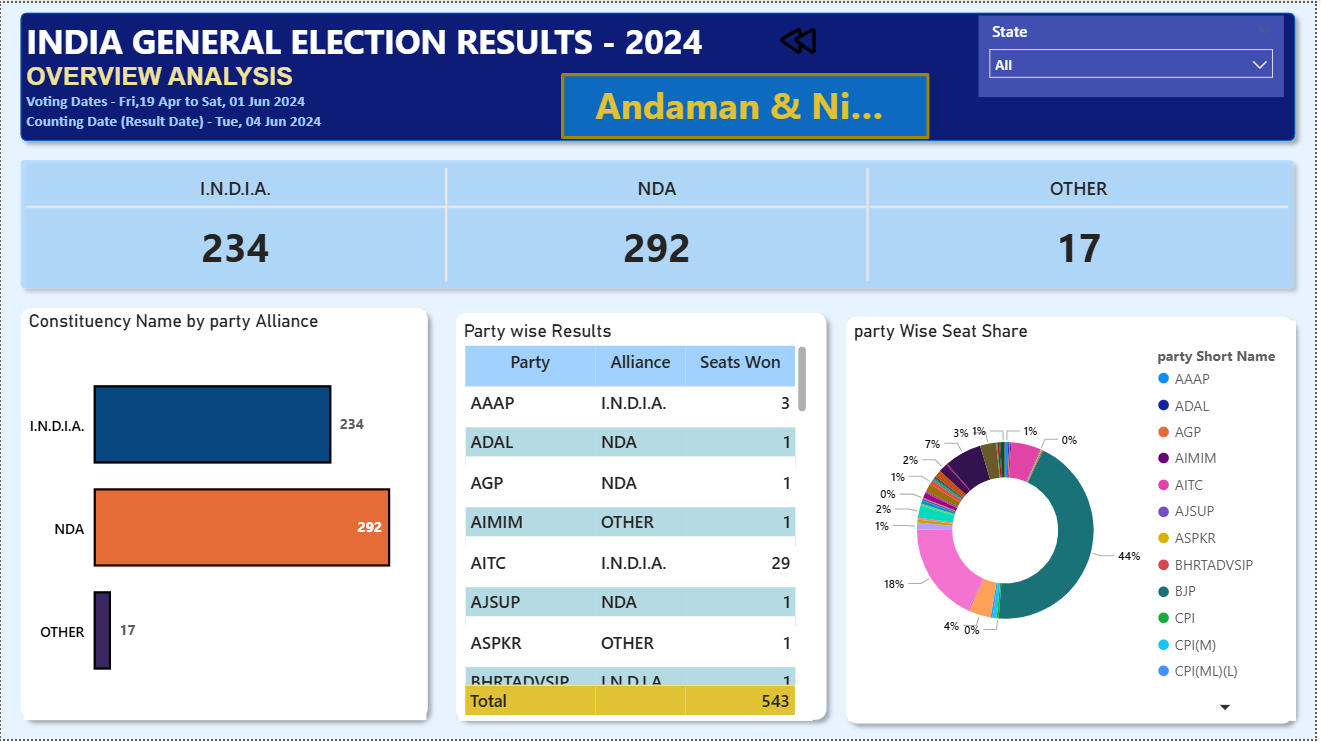

This screenshot's page, from the dashboard's own definition file:
{"tool":"powerbi","page":{"name":"State Demographics Analysis","canvas":[1250,700],"ordinal":2},"visuals":[{"type":"shape","box":[9.5,0,1230.5,140.3],"z":0},{"type":"textbox","box":[19,9.5,683.6,120.1],"z":1000},{"type":"shape","box":[9.5,140.3,1229,140],"z":2000},{"type":"cardVisual","fields":{"Data":["CountNonNull(constituencywise_results.Constituency Name)"],"Rows":["constituencywise_results.party Alliance"]},"box":[19,132,1212.6,158.1],"z":7000},{"type":"slicer","fields":{"Values":["states.State"]},"box":[929.7,11.9,290.1,77.3],"z":8000},{"type":"shape","box":[9.5,280.6,405.4,410.2],"z":9000},{"type":"barChart","title":"Constituency Name by party Alliance","fields":{"Category":["constituencywise_results.party Alliance"],"Y":["CountNonNull(constituencywise_results.Constituency Name)"]},"box":[21.4,292.5,382.8,389.9],"z":10000},{"type":"shape","box":[423.2,285.3,370.9,405.4],"z":11000},{"type":"tableEx","title":"Party wise Results","fields":{"Values":["constituencywise_results.party Short Name","partywise_results.Party Alliance","CountNonNull(constituencywise_results.Constituency Name)"]},"box":[435.1,302,336.4,380.4],"z":12000},{"type":"shape","box":[794.2,288.9,444.6,405.4],"z":13000},{"type":"donutChart","title":"party Wise Seat Share","fields":{"Y":["CountNonNull(constituencywise_results.Constituency Name)"],"Category":["constituencywise_results.party Short Name"]},"box":[806.1,302,425.6,380.4],"z":14000},{"type":"shape","box":[532.6,66.6,350.7,63],"z":15000},{"type":"card","fields":{"Values":["Min(states.State)"]},"box":[552.8,69,299.6,55.9],"z":16000},{"type":"image","box":[722.8,9.5,72.5,51.1],"z":16001}]}

Visuals, with their boxes in screenshot pixels (x1, y1, x2, y2), scaled from the page's 1250x700 canvas onto the 1321x742 screenshot:
shape: rect(10, 0, 1310, 149)
textbox: rect(20, 10, 743, 137)
shape: rect(10, 149, 1309, 297)
cardVisual - CountNonNull(constituencywise_results.Constituency Name) x constituencywise_results.party Alliance: rect(20, 140, 1302, 308)
slicer - states.State: rect(983, 13, 1289, 95)
shape: rect(10, 297, 438, 732)
"Constituency Name by party Alliance" barChart: rect(23, 310, 427, 723)
shape: rect(447, 302, 839, 732)
"Party wise Results" tableEx: rect(460, 320, 815, 723)
shape: rect(839, 306, 1309, 736)
"party Wise Seat Share" donutChart: rect(852, 320, 1302, 723)
shape: rect(563, 71, 933, 137)
card - Min(states.State): rect(584, 73, 901, 132)
image: rect(764, 10, 840, 64)
